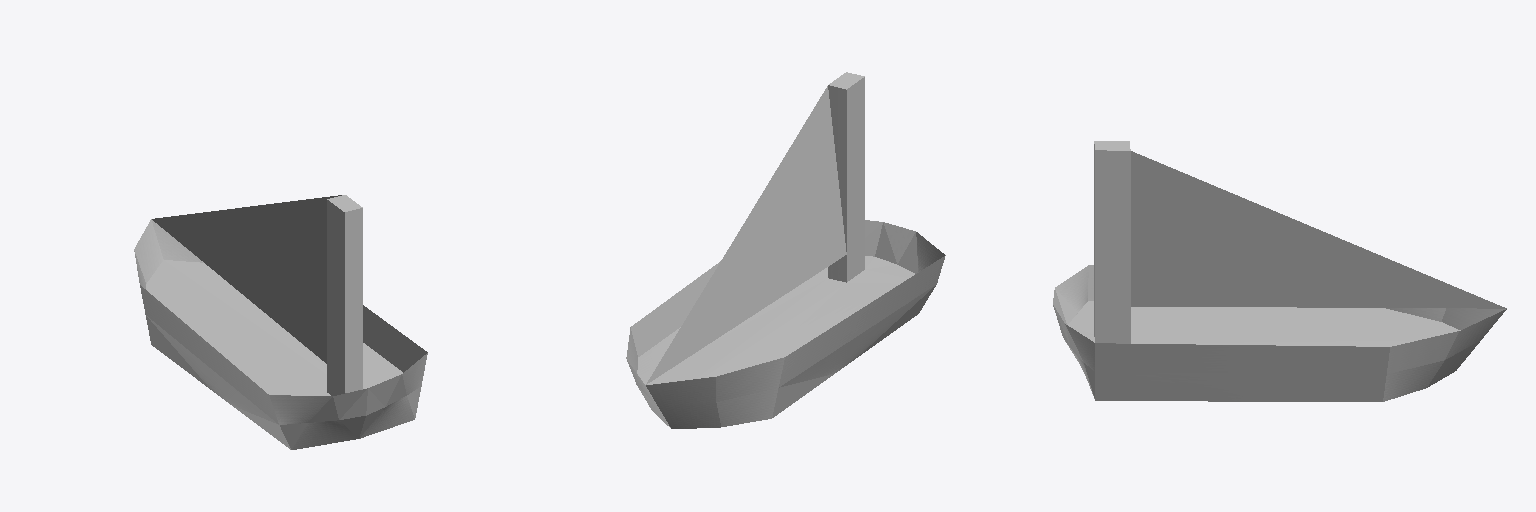
The model's file is lotsOFpoints.obj.
3 renders of one model, left to right at view 1: azimuth 30°, elevation 25°; view 2: azimuth 150°, elevation 25°; view 3: azimuth 270°, elevation 25°, orthographic.
Parts seen in each view (by area): view 1: Cube.001_Cube.002; view 2: Cube.001_Cube.002; view 3: Cube.001_Cube.002.
Part boxes in pixels (x1,y1,x2,y2): Cube.001_Cube.002: (134,195,427,449); Cube.001_Cube.002: (626,72,945,428); Cube.001_Cube.002: (1053,141,1506,401).
Bounding box in the file's own units: 0.2052 × 0.2684 × 0.491.